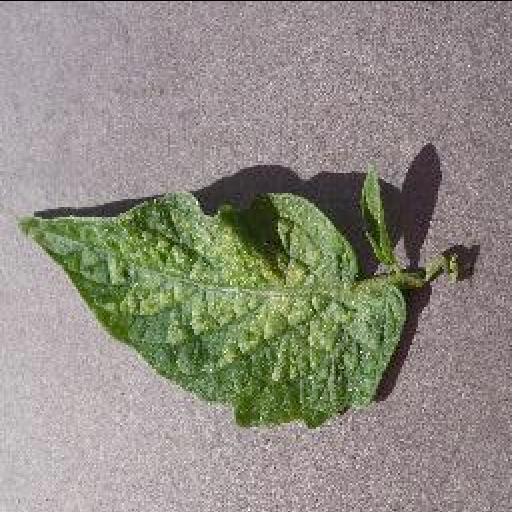disease_tomato: (18, 190, 404, 426)
